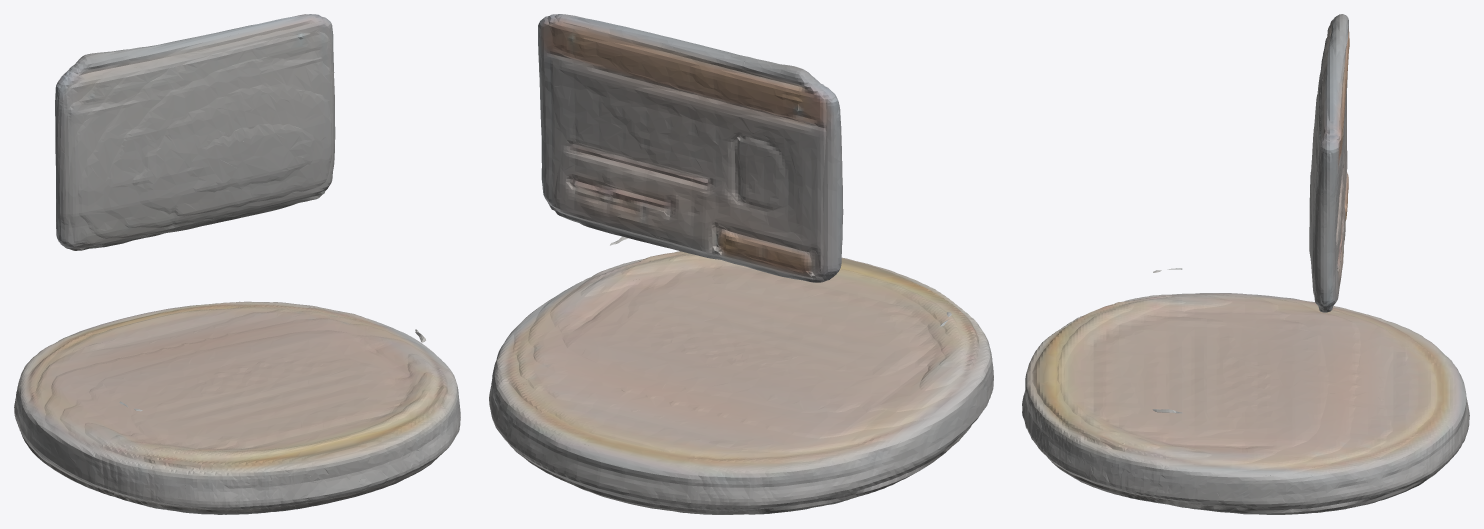
Rendered from room-02-credential-stack.glb.
The picture shows the model from 3 angles, left to right: view 1: azimuth 30°, elevation 25°; view 2: azimuth 150°, elevation 25°; view 3: azimuth 270°, elevation 25°; orthographic projection. The views are drawn at different scales.
Visible parts, largest first — view 1: world; view 2: world; view 3: world.
Part boxes in pixels (bbox=[...]): world: bbox=[14, 14, 460, 514]; world: bbox=[489, 14, 993, 514]; world: bbox=[1022, 14, 1469, 514].
Bounding box in the file's own units: 0.9434 × 0.8843 × 0.9689.
